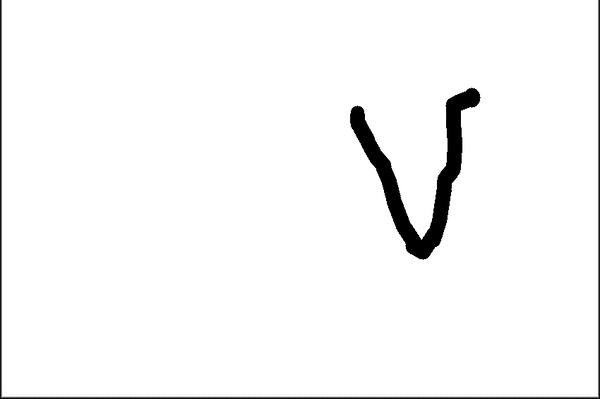V: (344, 83, 500, 260)
